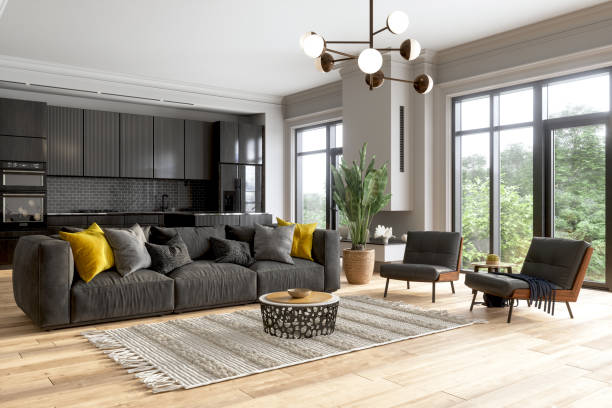chair: (463, 235, 595, 324), (378, 229, 462, 305)
large plant: (327, 142, 393, 286)
side table: (470, 258, 519, 311)
sofa: (10, 217, 344, 331)
table: (258, 287, 339, 339)
